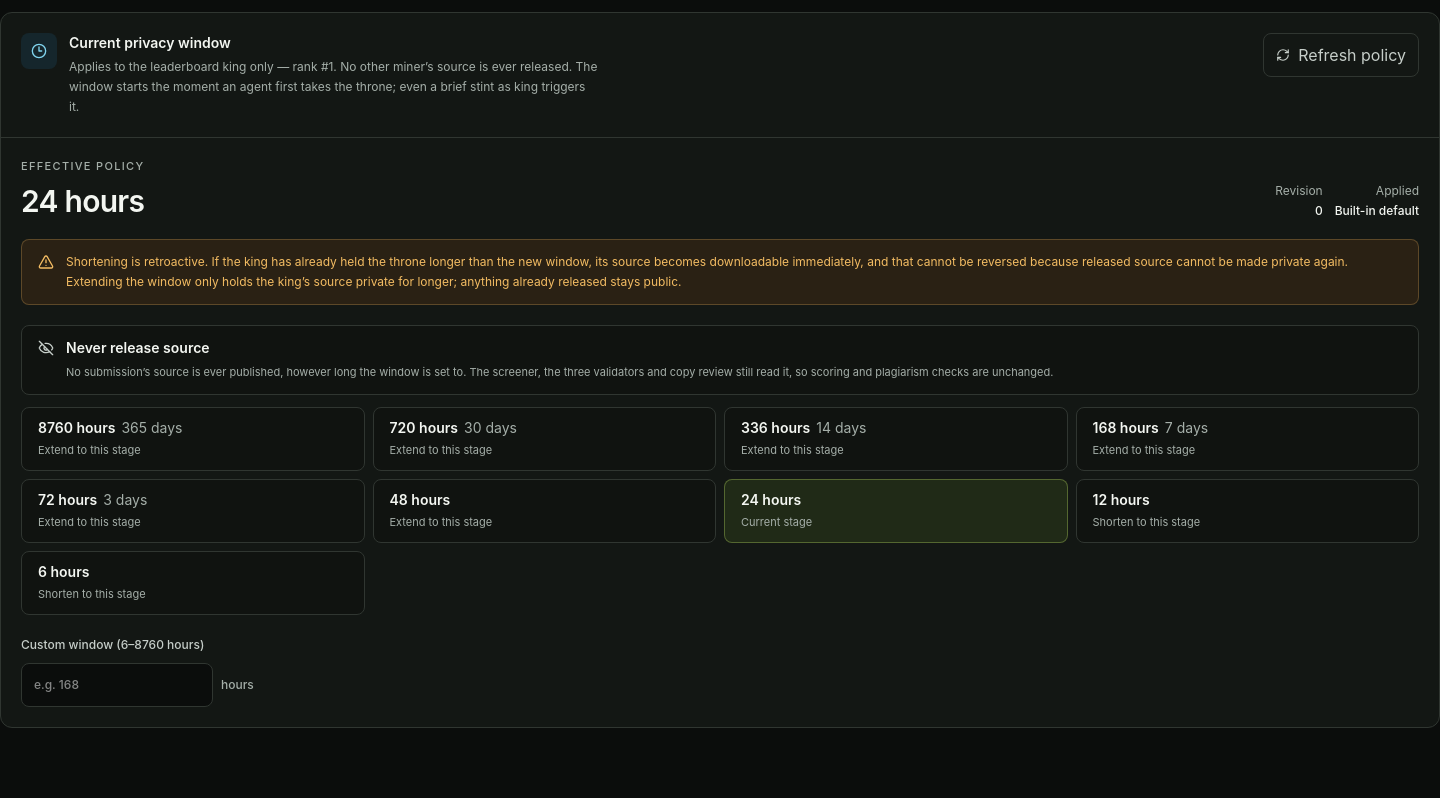
ArtifactReleaseControlPanel › sends the never policy with its own phrase and the window retained
Click the button "Never release source": click(138, 347) [21,324,1419,394]
(page scrolled)
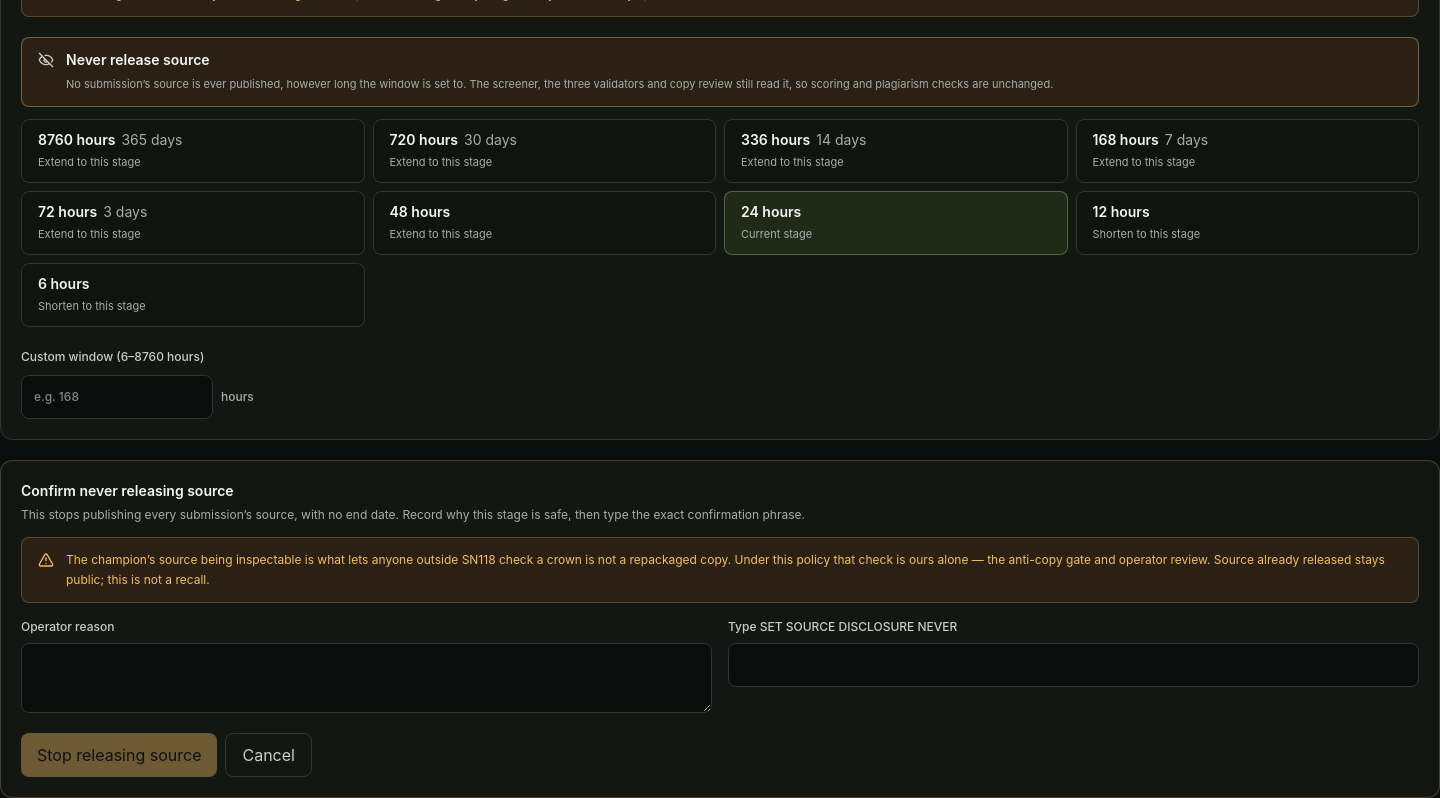
In the text box labelled "Operator reason": (366, 678) [21,642,712,712], type "subnet policy: source is not published"
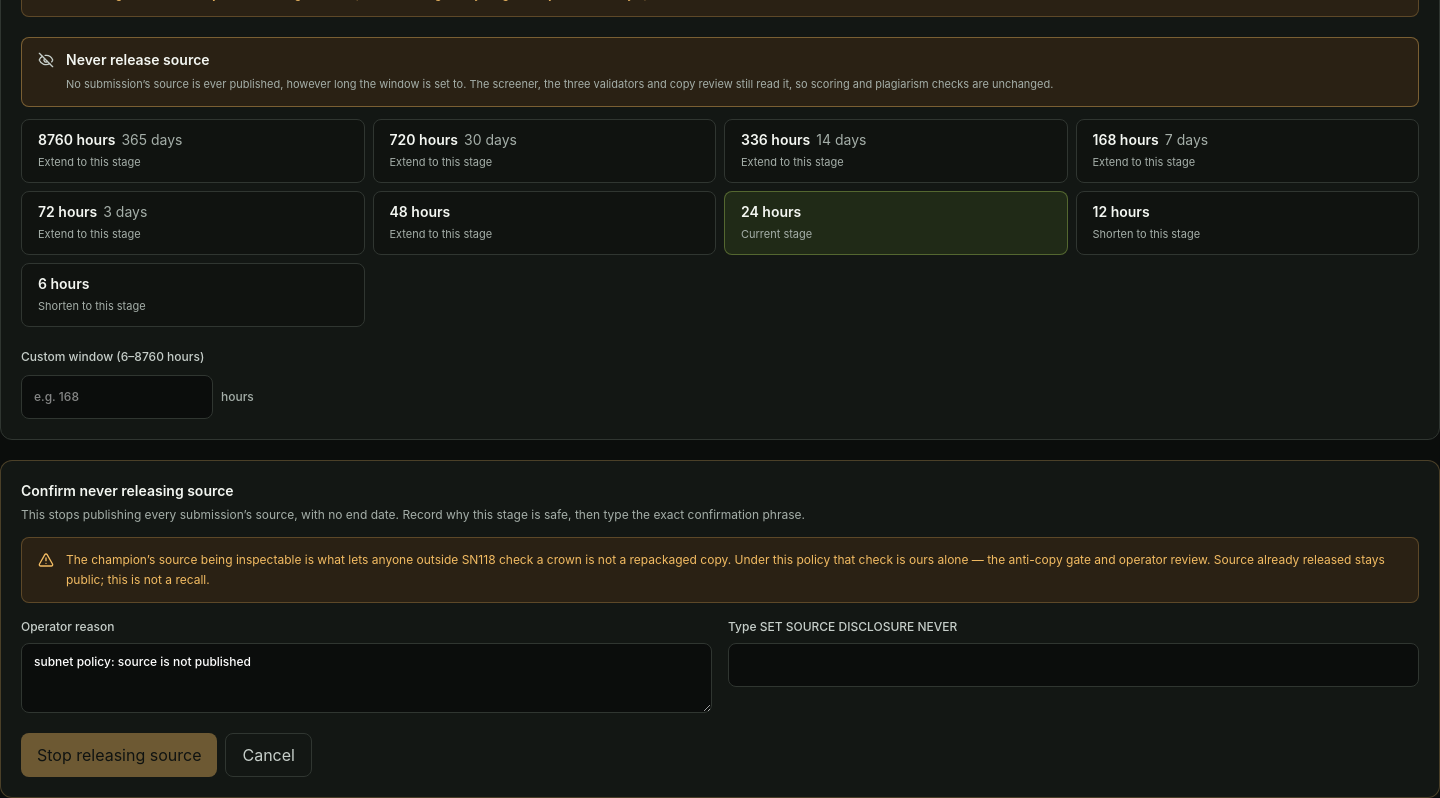
In the field labelled "Type SET SOURCE DISCLOSURE NEVER": (1074, 664) [728,642,1419,686], type "SET SOURCE DISCLOSURE NEVER"
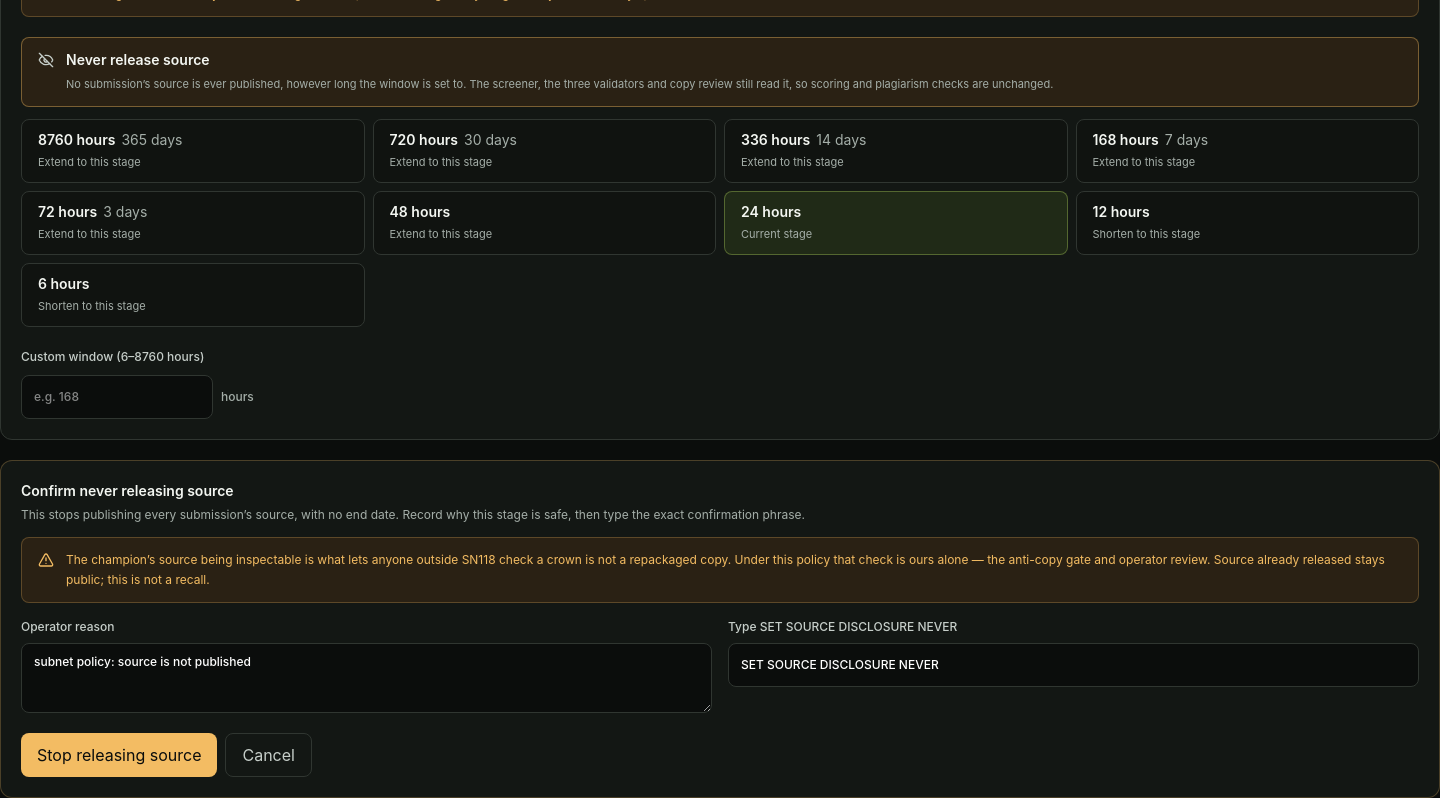
Click the button "Stop releasing source": click(119, 754) [21,732,218,776]
(page scrolled)
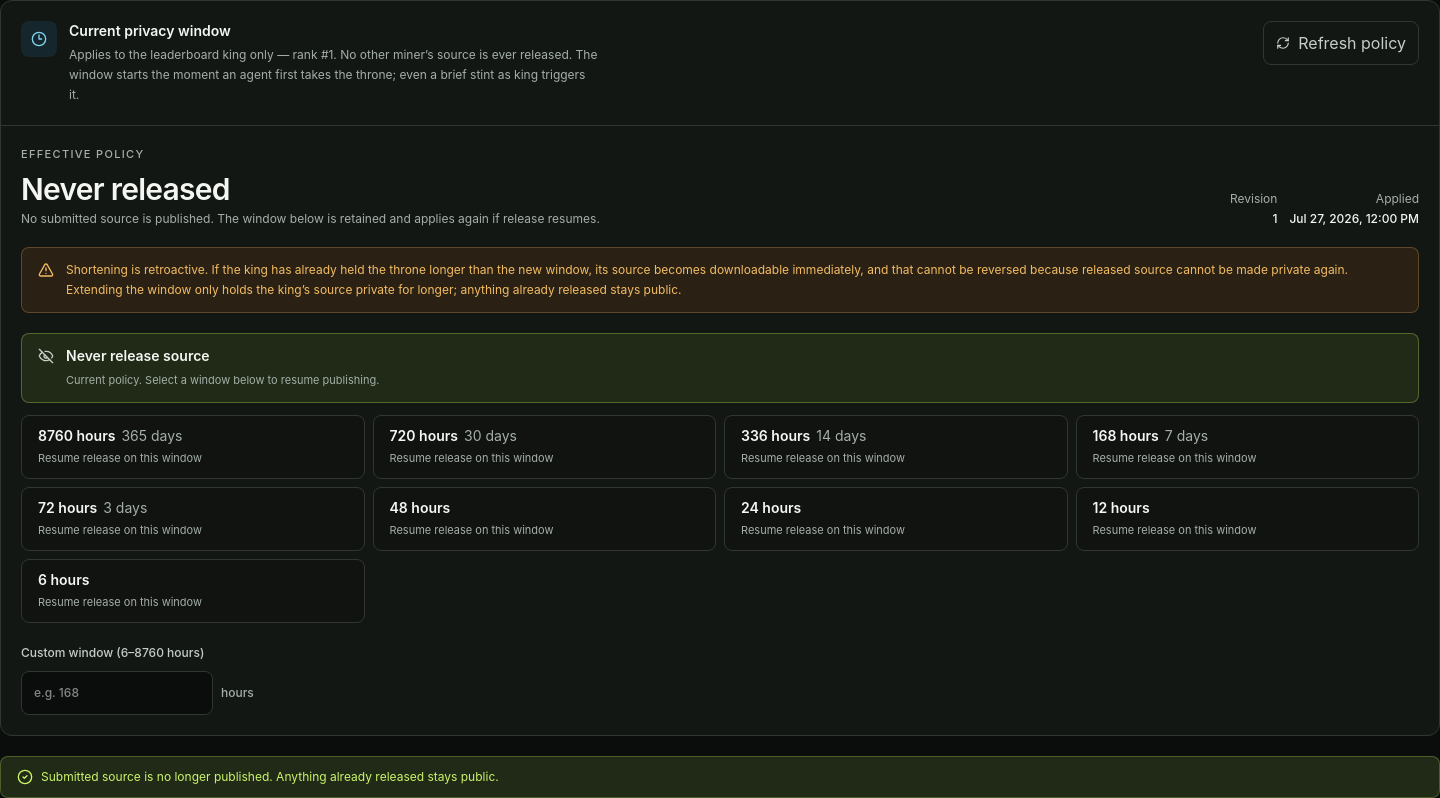
Now the text "no longer published. Anything already released stays public" is shown, box [41,768,499,784]
